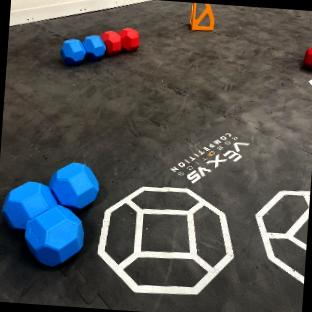V5_BLUE: (1, 162, 100, 265), (25, 204, 83, 264)
V5_RED: (118, 28, 139, 50), (101, 30, 121, 53), (303, 45, 312, 69)
